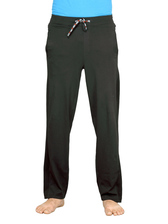clothoes: (39, 13, 127, 208)
